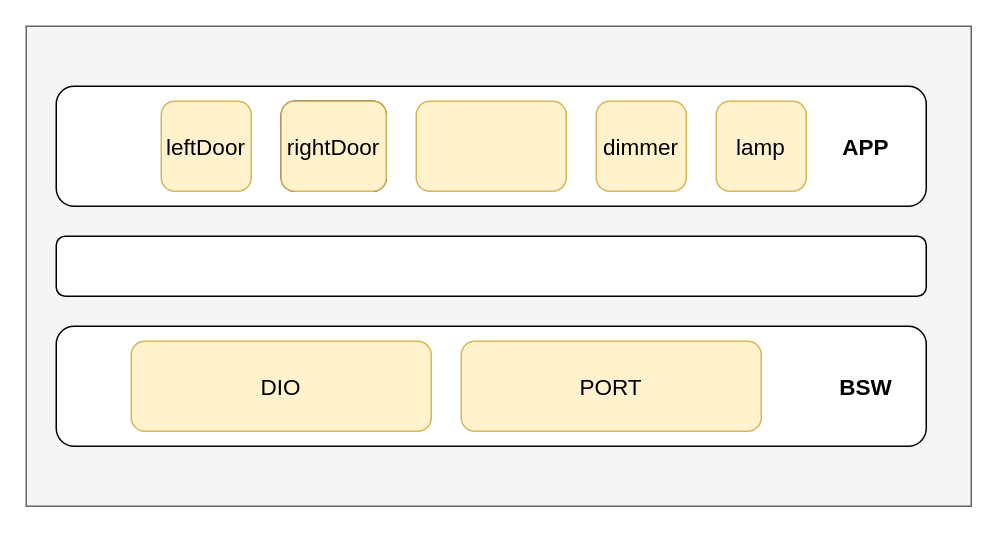
Some shapes in this 998 by 533 pixel diagram are drawn without their labels. The shapes that lost their labels are listed below. From the top down, each one's centre as x and y in pixels, then its label:
At (490,145): "doorContact".
At (490,265): "RTE".
